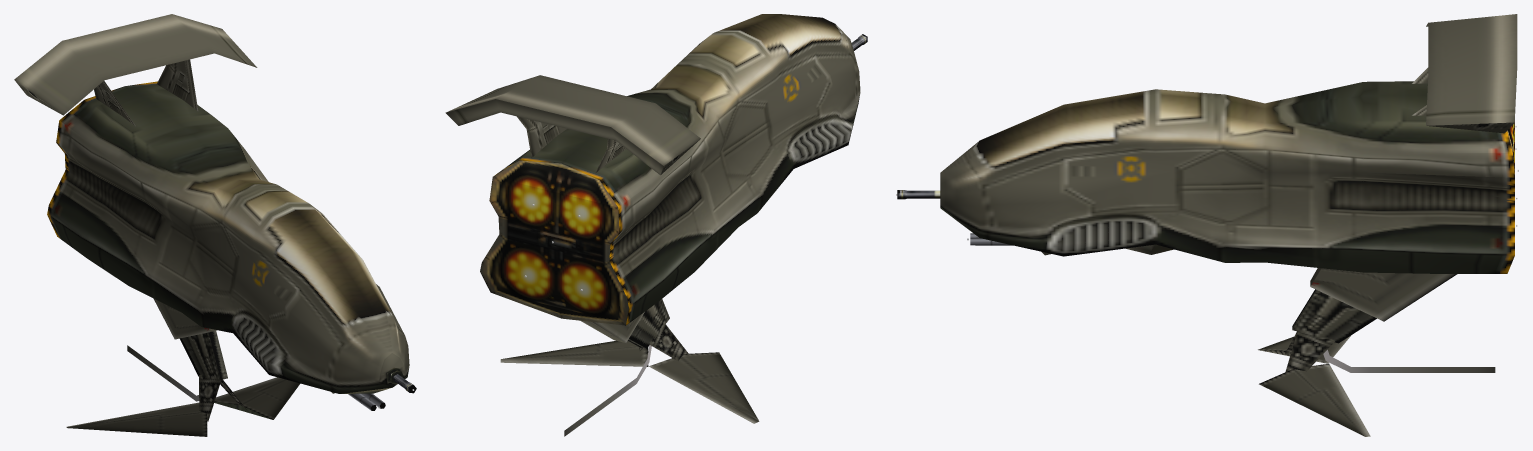
The model's file is bom05.obj.
3 views of the same model, side by side, from view 1: azimuth 30°, elevation 25°; view 2: azimuth 150°, elevation 25°; view 3: azimuth 270°, elevation 25° (orthographic). The views are drawn at different scales.
Parts seen in each view (by area): view 1: frm-fuselg, frm-finzzz1, frm-rlandgr, frm-llandgr, frm-LL1, frm-lfinzzz, frm-landgr1, frm-LLr, frm-rfinzzz, frm-LLa; view 2: frm-fuselg, frm-finzzz1, frm-rlandgr, frm-llandgr, frm-LL1, frm-lfinzzz, frm-LLr, frm-landgr1, frm-LLa; view 3: frm-fuselg, frm-finzzz1, frm-landgr1, frm-llandgr, frm-LL1, frm-LLl, frm-LLa.
Boxes of the visible parts, box(x1,y1,x2,y2) form: frm-fuselg: box(47, 81, 409, 393); frm-finzzz1: box(14, 14, 257, 115); frm-rlandgr: box(66, 402, 207, 436); frm-llandgr: box(214, 377, 300, 419); frm-LL1: box(180, 330, 227, 379); frm-lfinzzz: box(157, 59, 198, 111); frm-landgr1: box(153, 298, 216, 339); frm-LLr: box(199, 374, 221, 421); frm-rfinzzz: box(94, 81, 135, 126); frm-LLa: box(127, 345, 199, 401); frm-fuselg: box(480, 14, 860, 325); frm-finzzz1: box(445, 75, 700, 175); frm-rlandgr: box(649, 352, 759, 423); frm-llandgr: box(500, 340, 648, 366); frm-LL1: box(628, 299, 669, 348); frm-lfinzzz: box(517, 116, 566, 157); frm-LLr: box(649, 324, 688, 360); frm-landgr1: box(580, 312, 644, 342); frm-LLa: box(564, 345, 651, 436); frm-fuselg: box(940, 81, 1514, 273); frm-finzzz1: box(1426, 14, 1517, 133); frm-landgr1: box(1310, 268, 1457, 321); frm-llandgr: box(1259, 363, 1370, 436); frm-LL1: box(1292, 289, 1376, 343); frm-LLl: box(1285, 331, 1334, 371); frm-LLa: box(1323, 349, 1495, 372).
Bounding box in the file's own units: 2.18 × 2.7 × 4.57.
